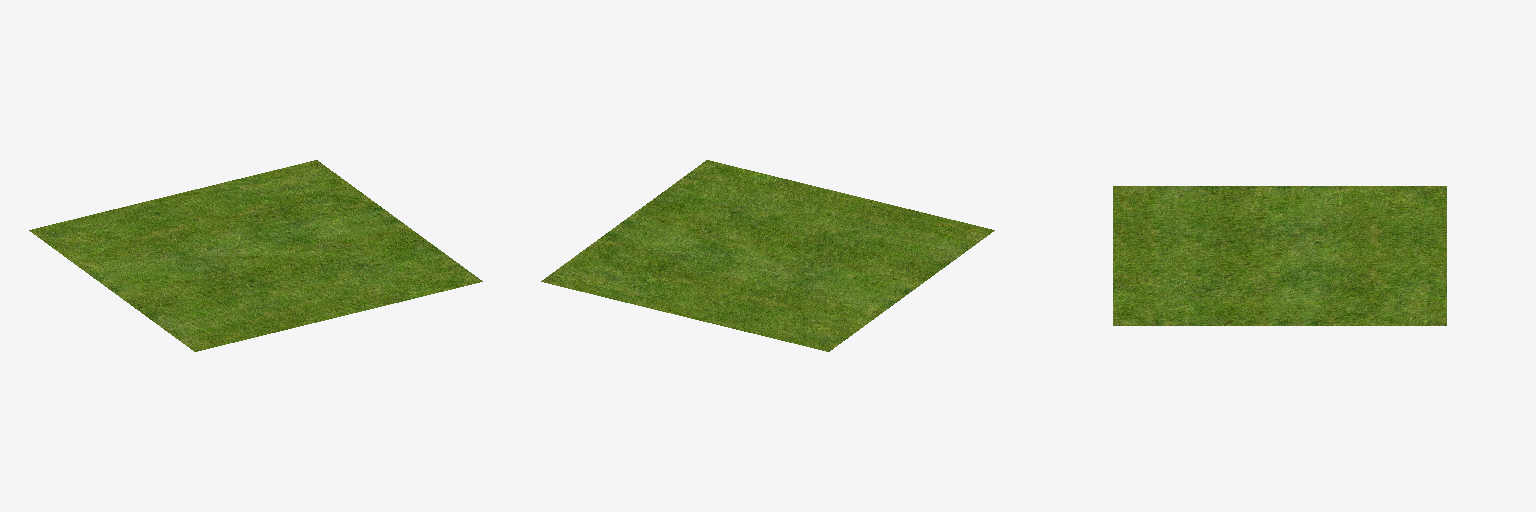
The picture shows the model from 3 angles: view 1: azimuth 30°, elevation 25°; view 2: azimuth 150°, elevation 25°; view 3: azimuth 270°, elevation 25°; orthographic projection.
Parts seen in each view (by area): view 1: Plane; view 2: Plane; view 3: Plane.
Part boxes in pixels (x1,y1,x2,y2): Plane: (29,160,482,351); Plane: (541,160,994,351); Plane: (1113,186,1446,325).
Size of the model in its own units: 46.93 by 0 by 46.93.
1 materials, 1 textured.